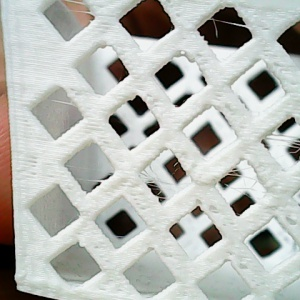3dpstringing: (144, 158, 179, 206), (221, 165, 262, 203), (202, 14, 253, 42), (259, 128, 299, 160), (54, 1, 96, 20), (43, 96, 83, 115), (77, 174, 113, 189), (63, 213, 84, 226), (112, 233, 129, 244)
3dpunderextrusion: (194, 198, 236, 227), (222, 250, 256, 281), (283, 211, 300, 232)
